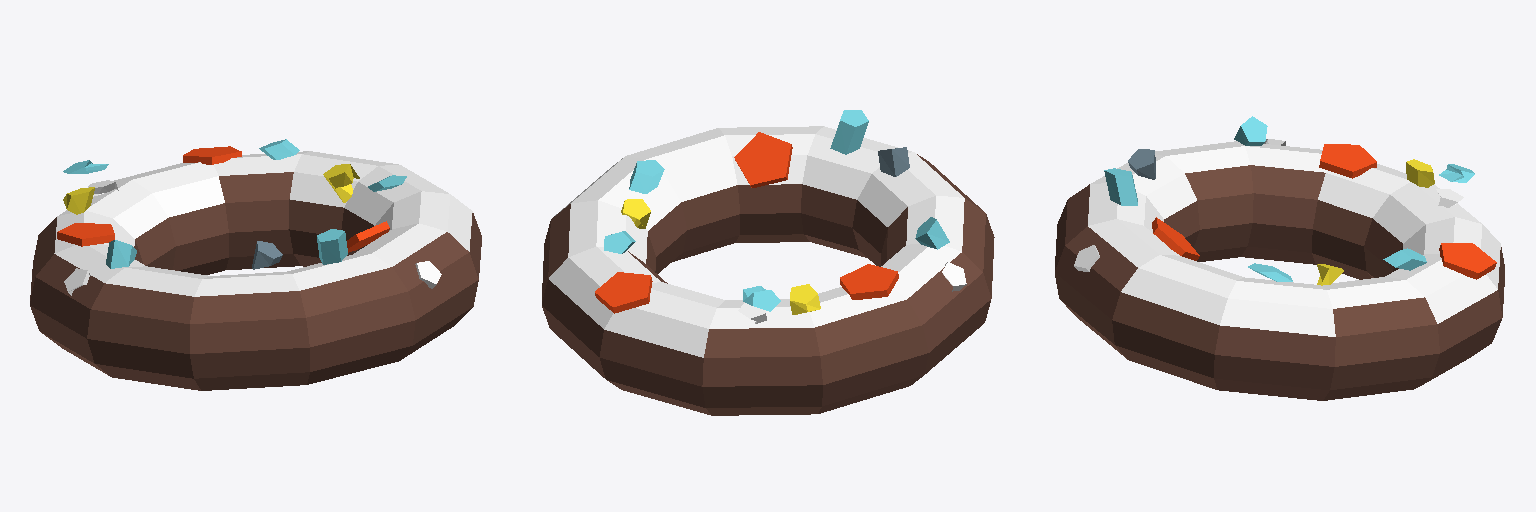
File: model-triangulated.obj
The picture shows the model from 3 angles: view 1: azimuth 30°, elevation 25°; view 2: azimuth 150°, elevation 25°; view 3: azimuth 270°, elevation 25°; orthographic projection.
Parts seen in each view (by area): view 1: group[number redacted], group[number redacted], group[number redacted], group[number redacted], group[number redacted], group[number redacted], group[number redacted], group[number redacted], group[number redacted]; view 2: group[number redacted], group[number redacted], group[number redacted], group[number redacted], group[number redacted], group[number redacted], group[number redacted], group[number redacted], group[number redacted], group[number redacted], group[number redacted]; view 3: group[number redacted], group[number redacted], group[number redacted], group[number redacted], group[number redacted], group[number redacted], group[number redacted], group[number redacted], group[number redacted].
Boxes of the visible parts, box(x1,y1,x2,y2) form: group[number redacted]: box(30, 151, 481, 390); group[number redacted]: box(57, 223, 114, 246); group[number redacted]: box(317, 229, 347, 264); group[number redacted]: box(323, 164, 359, 202); group[number redacted]: box(183, 146, 241, 164); group[number redacted]: box(106, 240, 136, 268); group[number redacted]: box(252, 241, 282, 269); group[number redacted]: box(63, 187, 94, 214); group[number redacted]: box(347, 221, 389, 252); group[number redacted]: box(542, 126, 994, 415); group[number redacted]: box(734, 132, 792, 187); group[number redacted]: box(595, 272, 652, 313); group[number redacted]: box(840, 264, 898, 299); group[number redacted]: box(830, 110, 868, 154); group[number redacted]: box(629, 160, 664, 193); group[number redacted]: box(790, 284, 820, 314); group[number redacted]: box(878, 147, 909, 176); group[number redacted]: box(915, 217, 949, 249); group[number redacted]: box(743, 286, 780, 311); group[number redacted]: box(621, 199, 650, 228); group[number redacted]: box(1055, 141, 1504, 400); group[number redacted]: box(1319, 144, 1376, 178); group[number redacted]: box(1439, 243, 1496, 279); group[number redacted]: box(1104, 168, 1137, 205); group[number redacted]: box(1152, 217, 1199, 260); group[number redacted]: box(1234, 116, 1267, 145); group[number redacted]: box(1128, 149, 1155, 179); group[number redacted]: box(1406, 159, 1434, 187); group[number redacted]: box(1383, 248, 1426, 270).
Size of the model in its own units: 0.2916 by 0.1192 by 0.2901.